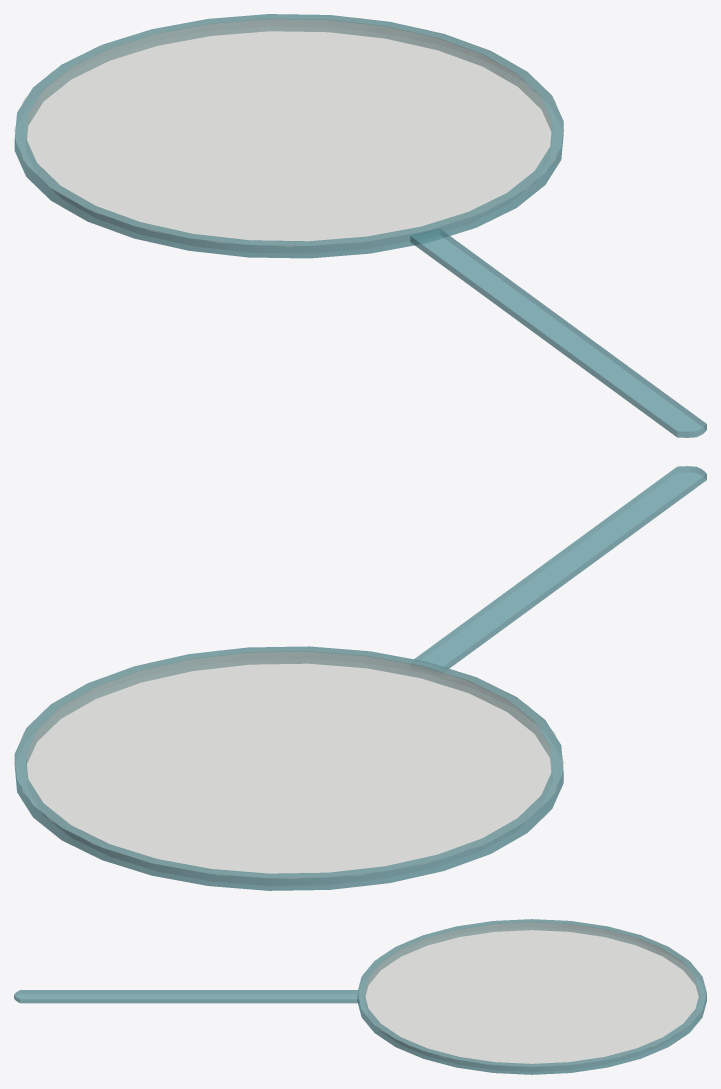
File: kinngyo_poi.fbx
The picture shows the model from 3 angles, top to bottom: view 1: azimuth 30°, elevation 25°; view 2: azimuth 150°, elevation 25°; view 3: azimuth 270°, elevation 25°; orthographic projection. The views are drawn at different scales.
Visible parts, largest first — view 1: net, poi, hand; view 2: net, poi, hand; view 3: net, poi, hand.
Part boxes in pixels (x1,y1,x2,y2): net: (14,14,564,246); poi: (14,14,563,258); hand: (410,228,706,437); net: (14,646,563,878); poi: (14,646,563,890); hand: (410,466,706,674); net: (357,919,706,1066); poi: (357,919,706,1074); hand: (14,990,359,1003).
Bounding box in the file's own units: 16 × 0.4 × 31.7.
